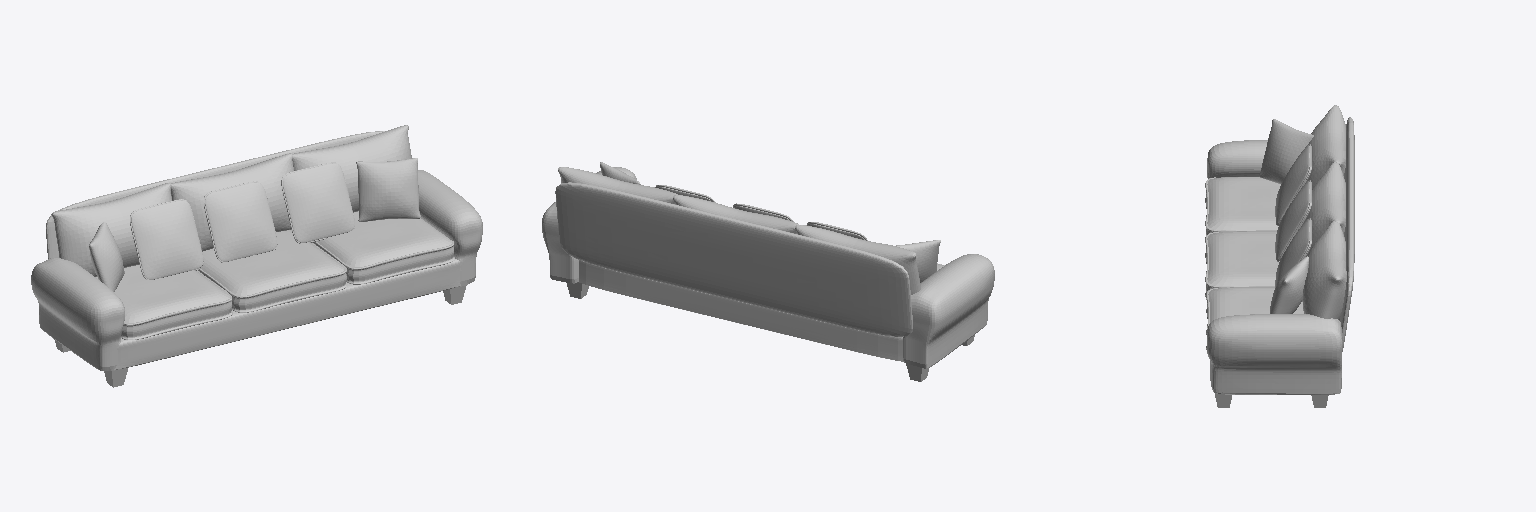
Rendered from largeCouch.obj.
3 views of the same model, side by side, from view 1: azimuth 30°, elevation 25°; view 2: azimuth 150°, elevation 25°; view 3: azimuth 270°, elevation 25° (orthographic).
Visible parts, largest first — view 1: PolyMesh_2, PolyMesh_3, PolyMesh_4_1, PolyMesh_4, PolyMesh_4_2, PolyMesh_2_2, PolyMesh_2_1, PolyMesh_2_3, PolyMesh_1_5, PolyMesh_1, PolyMesh_3_1, PolyMesh_1_2 (+3 smaller); view 2: PolyMesh_1_1, PolyMesh_2, PolyMesh_3, PolyMesh_1_5, PolyMesh_3_1, PolyMesh_1_4, PolyMesh_1, PolyMesh_1_3; view 3: PolyMesh_3_1, PolyMesh_4_1, PolyMesh_4_2, PolyMesh_1_4, PolyMesh_1, PolyMesh_3, PolyMesh_4, PolyMesh_1_5, PolyMesh_1_3, PolyMesh_1_1, PolyMesh_1_2, PolyMesh_2_3 (+2 smaller).
Part boxes in pixels (left/top/right/bottom): PolyMesh_2: left=114, top=259, right=460, bottom=369; PolyMesh_3: left=31, top=257, right=124, bottom=371; PolyMesh_4_1: left=198, top=230, right=346, bottom=312; PolyMesh_4: left=312, top=211, right=454, bottom=284; PolyMesh_4_2: left=96, top=265, right=232, bottom=339; PolyMesh_2_2: left=281, top=162, right=354, bottom=243; PolyMesh_2_1: left=130, top=199, right=203, bottom=279; PolyMesh_2_3: left=204, top=181, right=277, bottom=262; PolyMesh_1_5: left=51, top=183, right=171, bottom=276; PolyMesh_1: left=170, top=153, right=293, bottom=251; PolyMesh_3_1: left=418, top=170, right=482, bottom=286; PolyMesh_1_2: left=356, top=158, right=420, bottom=221; PolyMesh_1_1: left=555, top=182, right=912, bottom=336; PolyMesh_2: left=579, top=260, right=903, bottom=361; PolyMesh_3: left=903, top=254, right=994, bottom=368; PolyMesh_1_5: left=795, top=225, right=920, bottom=294; PolyMesh_3_1: left=542, top=167, right=636, bottom=283; PolyMesh_1_4: left=558, top=167, right=677, bottom=203; PolyMesh_1: left=673, top=195, right=798, bottom=233; PolyMesh_1_3: left=896, top=240, right=940, bottom=282; PolyMesh_3_1: left=1207, top=314, right=1342, bottom=394; PolyMesh_4_1: left=1205, top=231, right=1279, bottom=299; PolyMesh_4_2: left=1205, top=177, right=1280, bottom=237; PolyMesh_1_4: left=1302, top=221, right=1346, bottom=319; PolyMesh_1: left=1307, top=162, right=1345, bottom=249; PolyMesh_3: left=1207, top=140, right=1267, bottom=178; PolyMesh_4: left=1206, top=287, right=1303, bottom=349; PolyMesh_1_5: left=1308, top=105, right=1345, bottom=188; PolyMesh_1_3: left=1259, top=119, right=1313, bottom=183; PolyMesh_1_1: left=1339, top=117, right=1354, bottom=351; PolyMesh_1_2: left=1270, top=256, right=1308, bottom=313; PolyMesh_2_3: left=1275, top=180, right=1311, bottom=261.
Bounding box in the file's own units: 7.76 × 2.46 × 2.51.